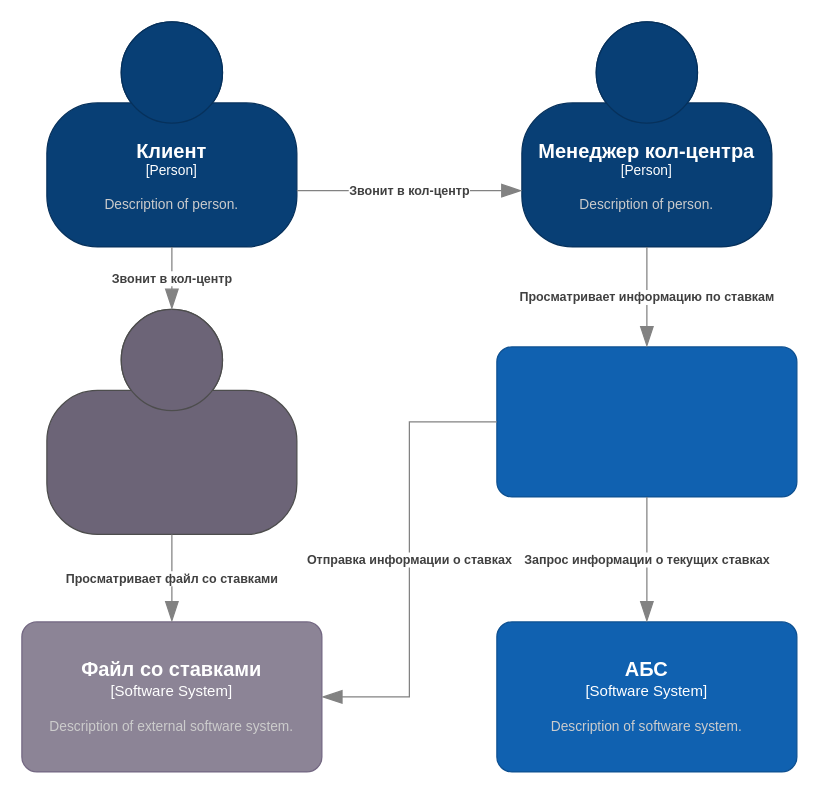
The diagram is 819 pixels wide and 794 high, and some of its shapes have lost their labels. Each missing label, with the box of its shape:
External person name [Person] Description of external person.: (46, 308, 297, 534)
Система кол-центра [Software System] Description of software system.: (496, 346, 797, 497)
